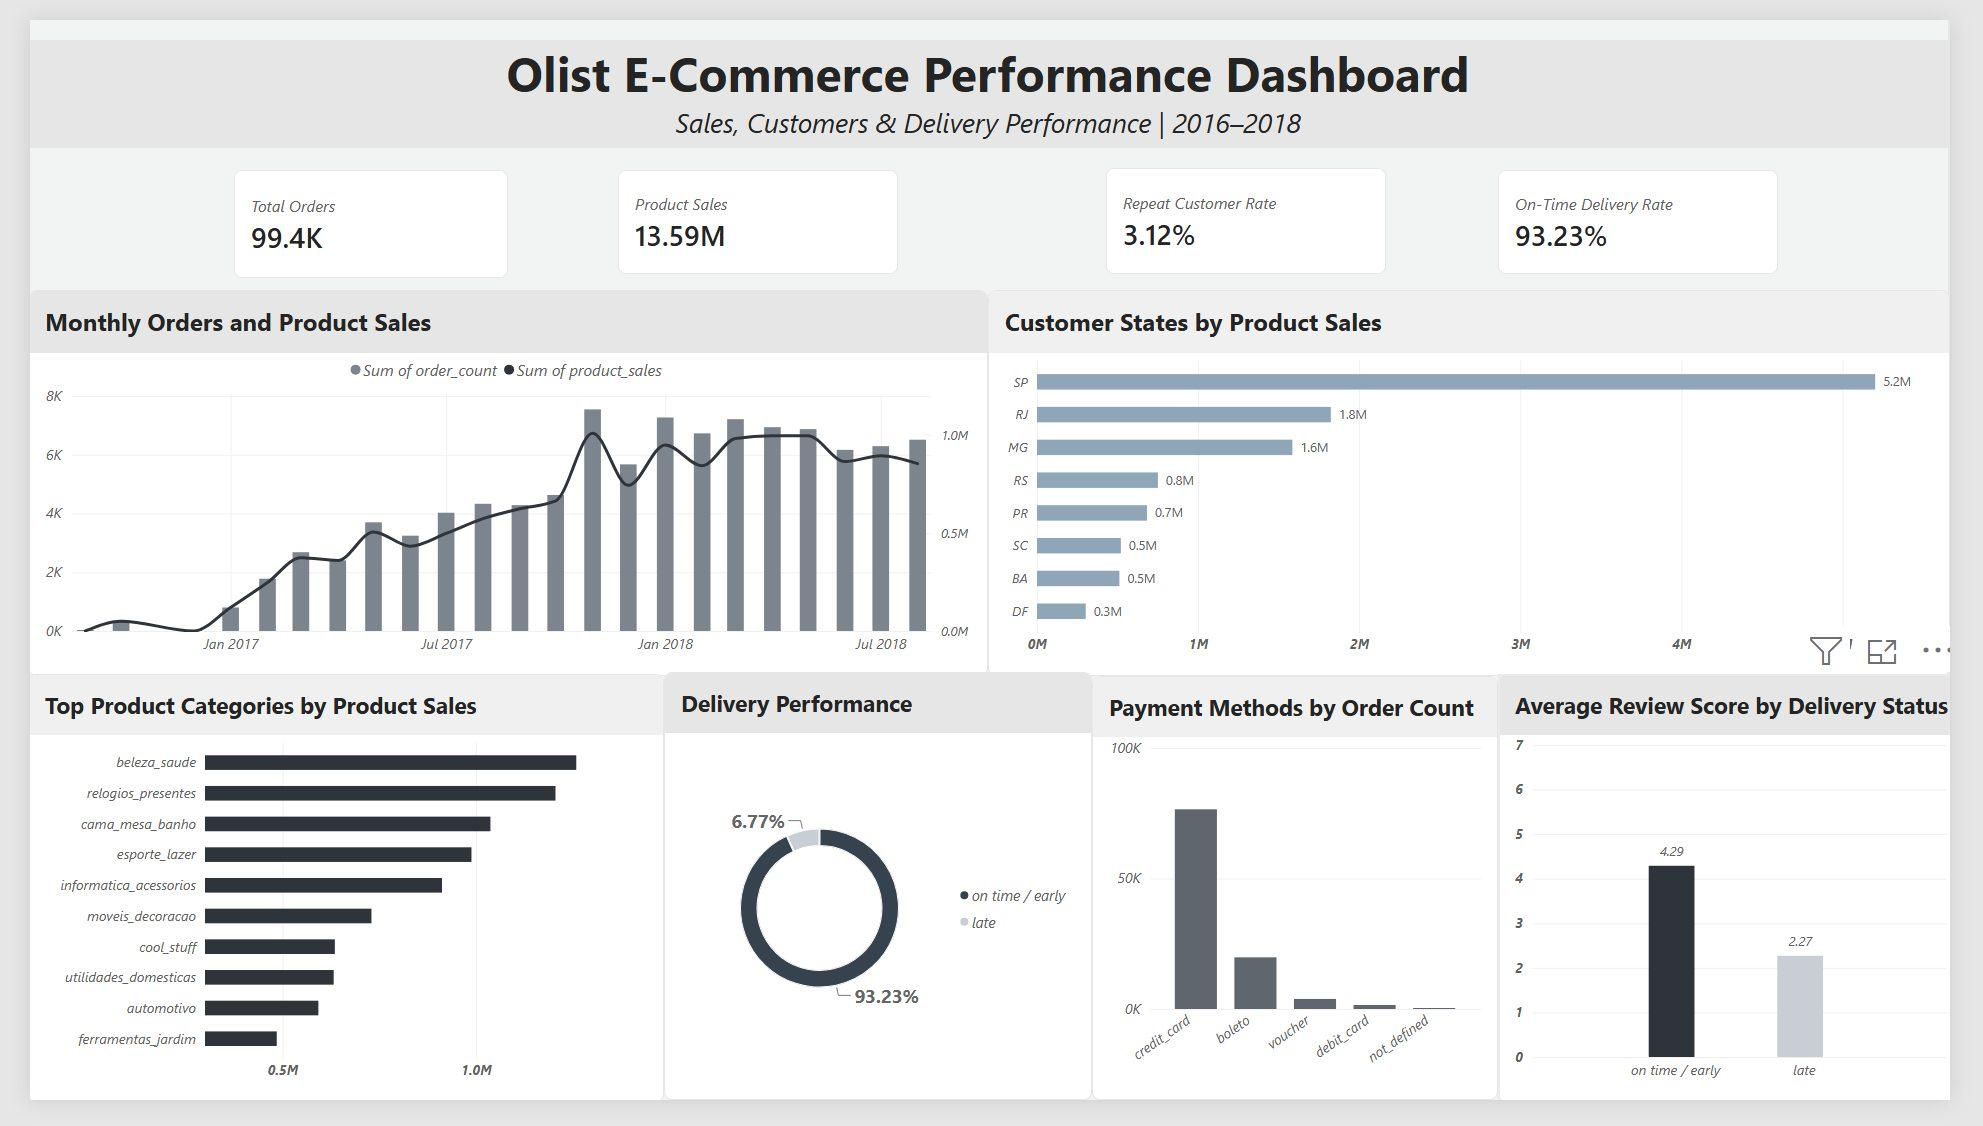

This screenshot's page, from the dashboard's own definition file:
{"tool":"powerbi","page":{"name":"Page 1","canvas":[1920,1080],"ordinal":0},"visuals":[{"type":"cardVisual","title":"Total Orders","fields":{"Data":["pbi_category_sales.Total Orders Display"]},"box":[206,150,274,108],"z":0},{"type":"cardVisual","fields":{"Data":["Sum(pbi_orders_monthly.product_sales)"]},"box":[590,150,280,104],"z":1000},{"type":"cardVisual","fields":{"Data":["pbi_category_sales.Repeat Customer Rate"]},"box":[1078,148,280,106],"z":2000},{"type":"cardVisual","fields":{"Data":["pbi_category_sales.On-Time Delivery Rate"]},"box":[1470,150,280,104],"z":3000},{"type":"lineClusteredColumnComboChart","title":"Monthly Orders and Product Sales","fields":{"Category":["pbi_orders_monthly.month_start"],"Y":["Sum(pbi_orders_monthly.order_count)"],"Y2":["Sum(pbi_orders_monthly.product_sales)"]},"box":[0,270,960,386],"z":4000},{"type":"clusteredBarChart","title":"Top Product Categories by Product Sales","fields":{"Category":["pbi_category_sales.product_category_name"],"Y":["Sum(pbi_category_sales.product_sales)"]},"box":[0,654,636,428],"z":5000},{"type":"clusteredBarChart","title":"Customer States by Product Sales","fields":{"Category":["pbi_state_performance.customer_state"],"Y":["Sum(pbi_state_performance.product_sales)"]},"box":[960,270,962,386],"z":6000},{"type":"clusteredColumnChart","title":"Payment Methods by Order Count","fields":{"Category":["pbi_payment_methods.payment_type"],"Y":["Avg(pbi_payment_methods.order_count)"]},"box":[1064,656,406,424],"z":7000},{"type":"donutChart","title":"Delivery Performance","fields":{"Category":["pbi_order_detail.delivery_status"],"Y":["CountNonNull(pbi_order_detail.order_id)"]},"box":[636,652,428,428],"z":8000},{"type":"clusteredColumnChart","title":"Average Review Score by Delivery Status","fields":{"Category":["pbi_order_detail.delivery_status"],"Y":["Avg(pbi_order_detail.review_score)"]},"box":[1470,654,466,428],"z":9000},{"type":"textbox","box":[0,20,1920,108],"z":9001}]}

Visuals, with their boxes in screenshot pixels (x1, y1, x2, y2), scaled from the page's 1920x1080 canvas onto the 1983x1126 screenshot:
"Total Orders" cardVisual: Rect(213, 156, 496, 269)
cardVisual - Sum(pbi_orders_monthly.product_sales): Rect(609, 156, 899, 265)
cardVisual - pbi_category_sales.Repeat Customer Rate: Rect(1113, 154, 1403, 265)
cardVisual - pbi_category_sales.On-Time Delivery Rate: Rect(1518, 156, 1807, 265)
"Monthly Orders and Product Sales" lineClusteredColumnComboChart: Rect(0, 282, 991, 684)
"Top Product Categories by Product Sales" clusteredBarChart: Rect(0, 682, 657, 1125)
"Customer States by Product Sales" clusteredBarChart: Rect(991, 282, 1982, 684)
"Payment Methods by Order Count" clusteredColumnChart: Rect(1099, 684, 1518, 1125)
"Delivery Performance" donutChart: Rect(657, 680, 1099, 1125)
"Average Review Score by Delivery Status" clusteredColumnChart: Rect(1518, 682, 1982, 1125)
textbox: Rect(0, 21, 1982, 133)
